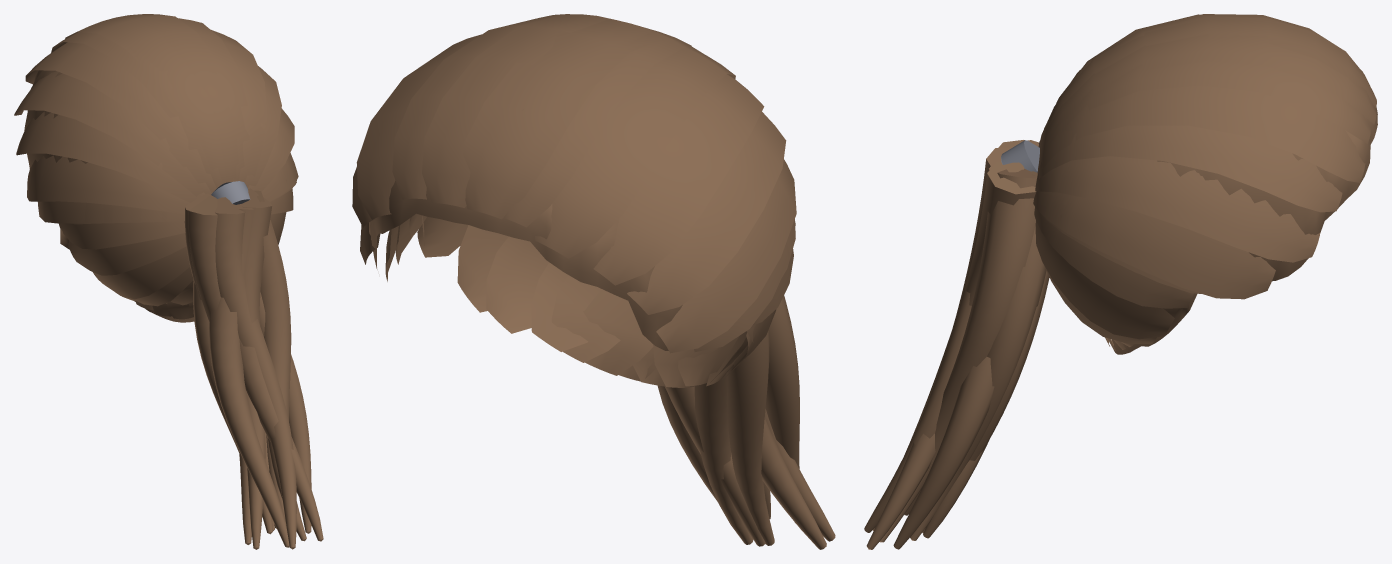
The model's file is V43_av_hair_3_f.glb.
The picture shows the model from 3 angles, left to right: view 1: azimuth 30°, elevation 25°; view 2: azimuth 150°, elevation 25°; view 3: azimuth 270°, elevation 25°; orthographic projection. The views are drawn at different scales.
Visible parts, largest first — view 1: av_hair_3_f; view 2: av_hair_3_f; view 3: av_hair_3_f.
Part boxes in pixels (left/top/right/bottom): av_hair_3_f: left=14, top=14, right=323, bottom=549; av_hair_3_f: left=352, top=14, right=835, bottom=549; av_hair_3_f: left=864, top=14, right=1377, bottom=549.
Size of the model in its own units: 0.1741 by 0.2908 by 0.269.
